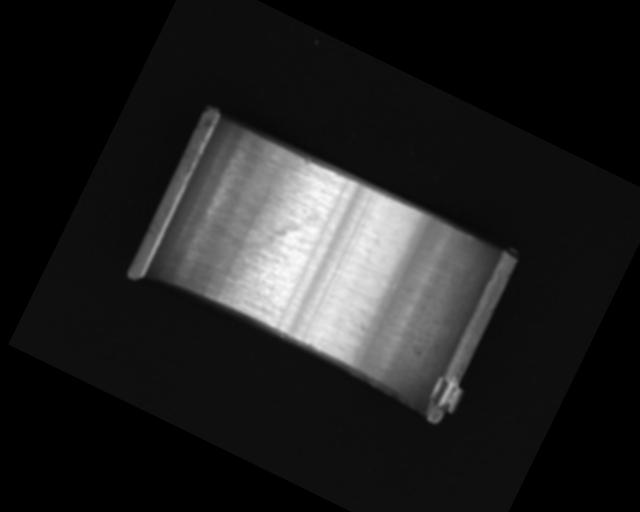bruise: (300, 155, 313, 167)
